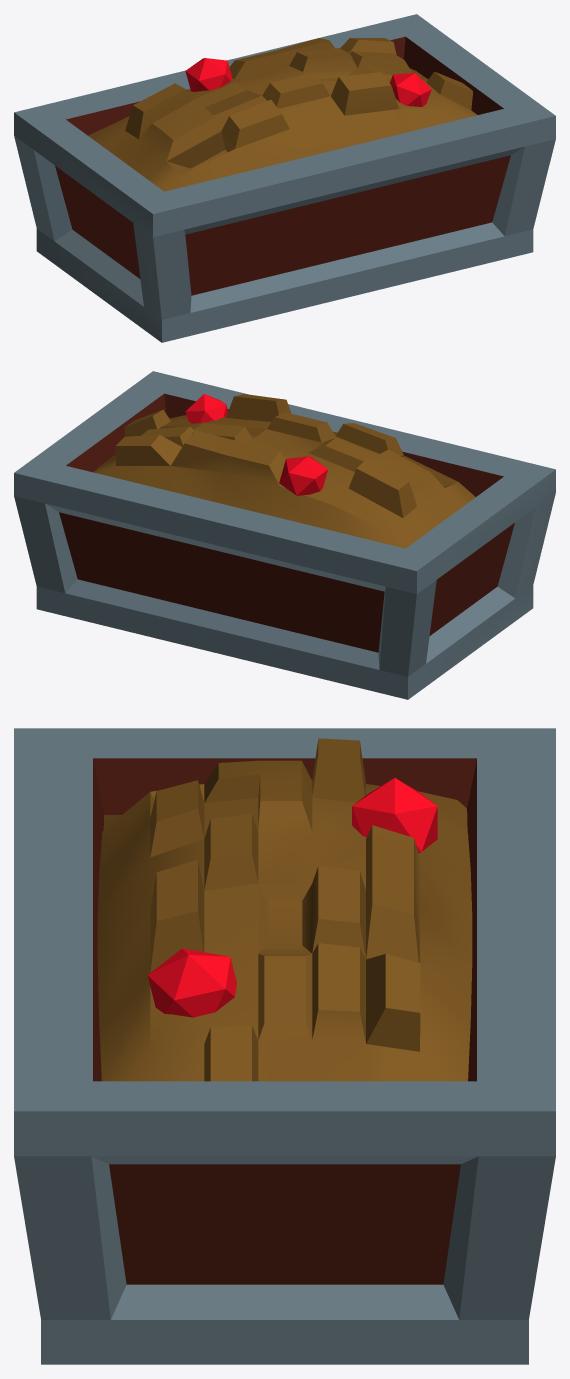
Rendered from chest_uncommon.obj.
The picture shows the model from 3 angles, top to bottom: view 1: azimuth 30°, elevation 25°; view 2: azimuth 150°, elevation 25°; view 3: azimuth 270°, elevation 25°; orthographic projection. The views are drawn at different scales.
Parts seen in each view (by area): view 1: chest_uncommon_Cube.2494; view 2: chest_uncommon_Cube.2494; view 3: chest_uncommon_Cube.2494.
Part boxes in pixels (left/top/right/bottom): chest_uncommon_Cube.2494: left=14, top=14, right=555, bottom=342; chest_uncommon_Cube.2494: left=14, top=371, right=555, bottom=699; chest_uncommon_Cube.2494: left=14, top=728, right=555, bottom=1364.
Bounding box in the file's own units: 1.84 × 0.8099 × 1.1.
